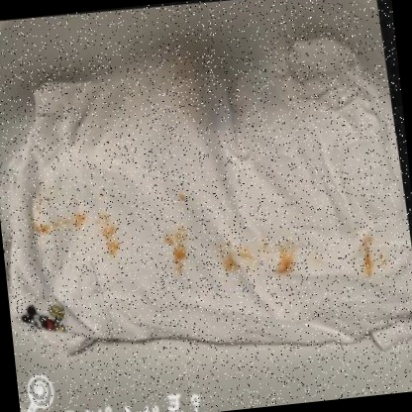kimchi: (28, 196, 120, 251), (211, 230, 308, 280), (157, 221, 199, 275), (357, 231, 392, 278), (98, 233, 128, 263), (170, 188, 191, 208)
